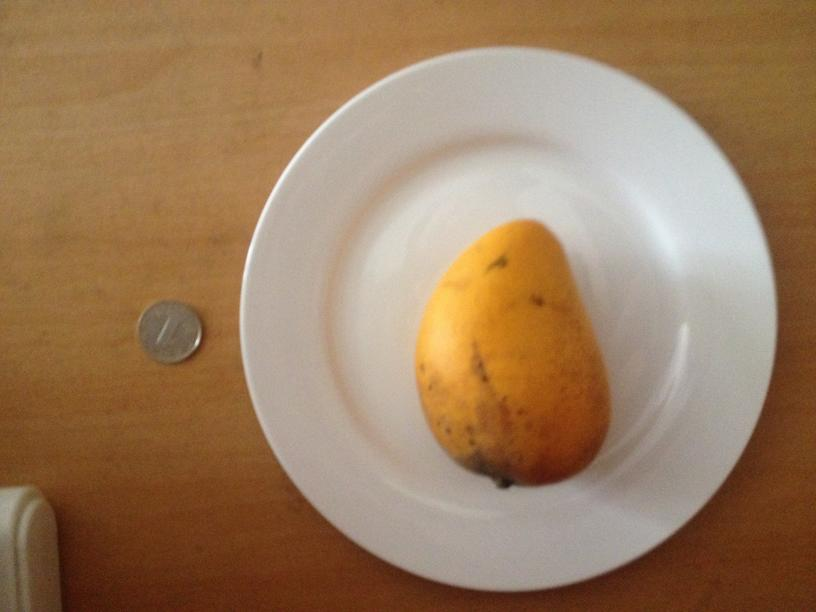coin: (138, 296, 201, 362)
mango: (416, 217, 609, 486)
